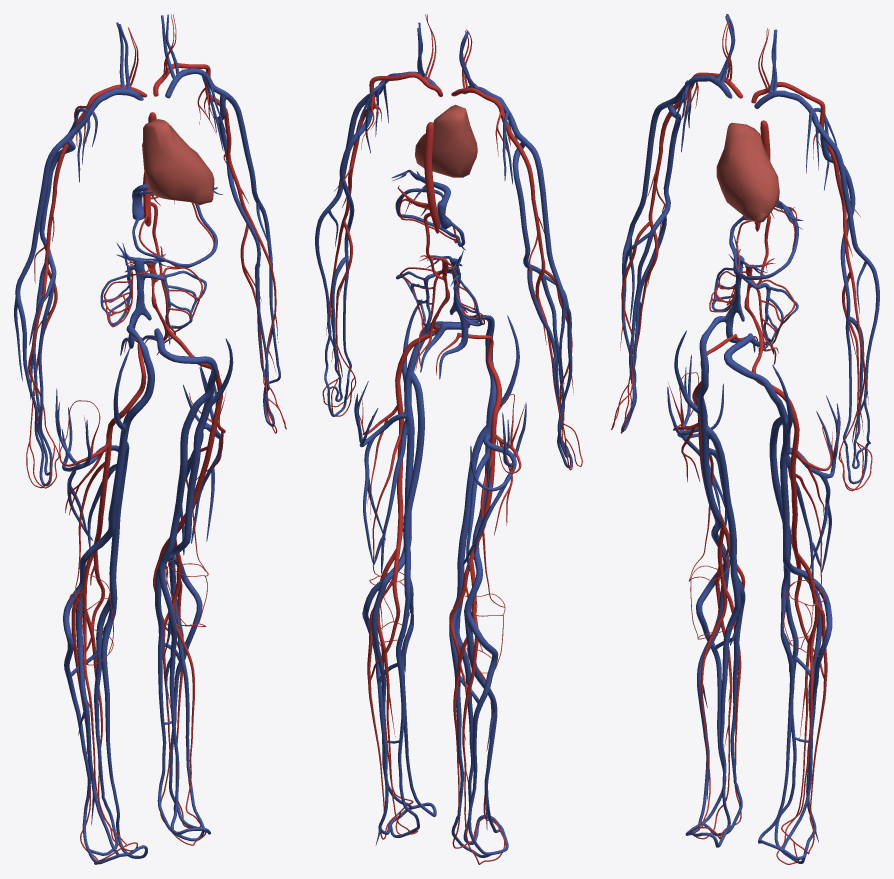
Rendered from pediatric_adolescent_female.cardiovascular.LOD1.glb.
3 renders of one model, left to right at view 1: azimuth 30°, elevation 25°; view 2: azimuth 150°, elevation 25°; view 3: azimuth 330°, elevation 25°, orthographic.
Parts seen in each view (by area): view 1: PEDIATRIC.ADOLESCENT.FEMALE.CARDIOVASCULAR.BLOOD_IN_LARGE_VE, PEDIATRIC.ADOLESCENT.FEMALE.CARDIOVASCULAR.BLOOD_IN_LARGE_AR, PEDIATRIC.ADOLESCENT.FEMALE.CARDIOVASCULAR.HEART_WALL; view 2: PEDIATRIC.ADOLESCENT.FEMALE.CARDIOVASCULAR.BLOOD_IN_LARGE_VE, PEDIATRIC.ADOLESCENT.FEMALE.CARDIOVASCULAR.BLOOD_IN_LARGE_AR, PEDIATRIC.ADOLESCENT.FEMALE.CARDIOVASCULAR.HEART_WALL; view 3: PEDIATRIC.ADOLESCENT.FEMALE.CARDIOVASCULAR.BLOOD_IN_LARGE_VE, PEDIATRIC.ADOLESCENT.FEMALE.CARDIOVASCULAR.BLOOD_IN_LARGE_AR, PEDIATRIC.ADOLESCENT.FEMALE.CARDIOVASCULAR.HEART_WALL.
Part boxes in pixels (x1,y1,x2,y2): PEDIATRIC.ADOLESCENT.FEMALE.CARDIOVASCULAR.BLOOD_IN_LARGE_VE: [14, 14, 280, 864]; PEDIATRIC.ADOLESCENT.FEMALE.CARDIOVASCULAR.BLOOD_IN_LARGE_AR: [26, 14, 286, 864]; PEDIATRIC.ADOLESCENT.FEMALE.CARDIOVASCULAR.HEART_WALL: [142, 119, 214, 205]; PEDIATRIC.ADOLESCENT.FEMALE.CARDIOVASCULAR.BLOOD_IN_LARGE_VE: [315, 22, 572, 857]; PEDIATRIC.ADOLESCENT.FEMALE.CARDIOVASCULAR.BLOOD_IN_LARGE_AR: [322, 14, 582, 864]; PEDIATRIC.ADOLESCENT.FEMALE.CARDIOVASCULAR.HEART_WALL: [415, 104, 477, 177]; PEDIATRIC.ADOLESCENT.FEMALE.CARDIOVASCULAR.BLOOD_IN_LARGE_VE: [621, 14, 879, 863]; PEDIATRIC.ADOLESCENT.FEMALE.CARDIOVASCULAR.BLOOD_IN_LARGE_AR: [611, 21, 872, 864]; PEDIATRIC.ADOLESCENT.FEMALE.CARDIOVASCULAR.HEART_WALL: [716, 123, 779, 222].
Size of the model in its own units: 0.463 by 1.45 by 0.172.
